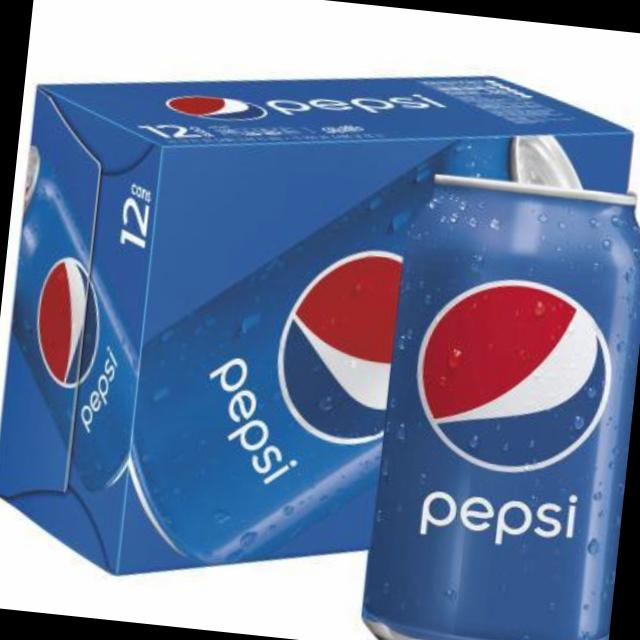metal: (361, 173, 640, 640)
